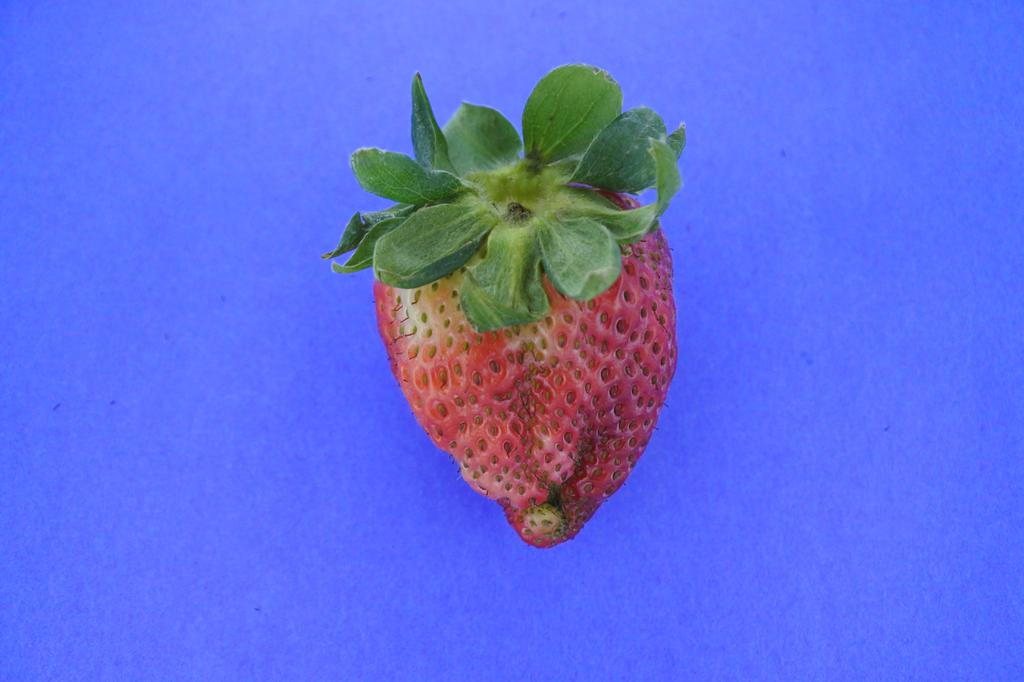red strawberry: (328, 67, 692, 550)
